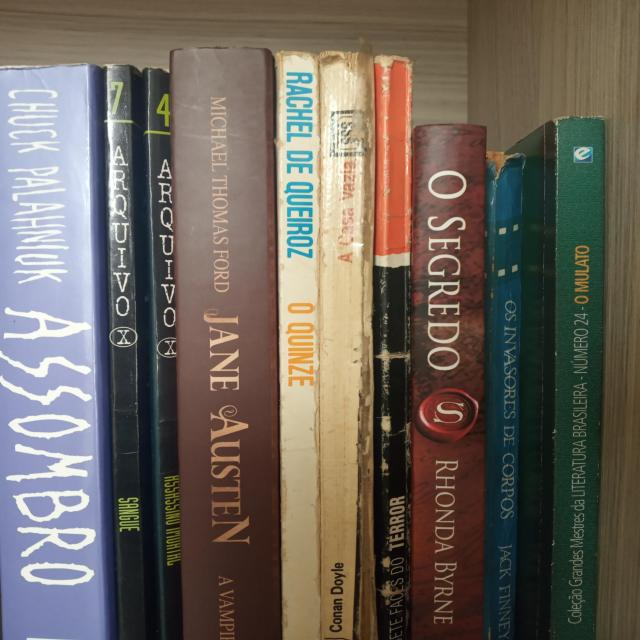book: (4, 70, 85, 640), (192, 54, 264, 633), (416, 124, 482, 636), (105, 67, 141, 639), (321, 53, 355, 635), (280, 55, 314, 637), (565, 122, 600, 639), (502, 158, 536, 634), (380, 61, 407, 634), (154, 66, 181, 637)
